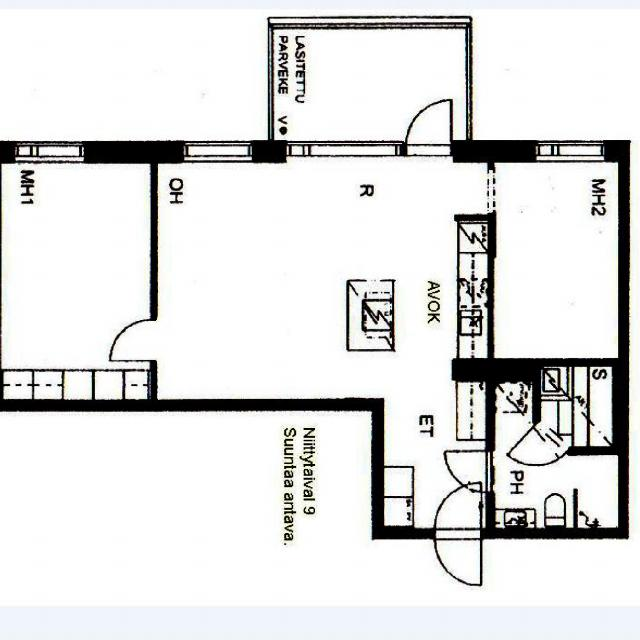door: (512, 419, 570, 478), (405, 94, 451, 162), (434, 528, 481, 585), (434, 482, 481, 539), (445, 451, 495, 491), (111, 320, 157, 359)
